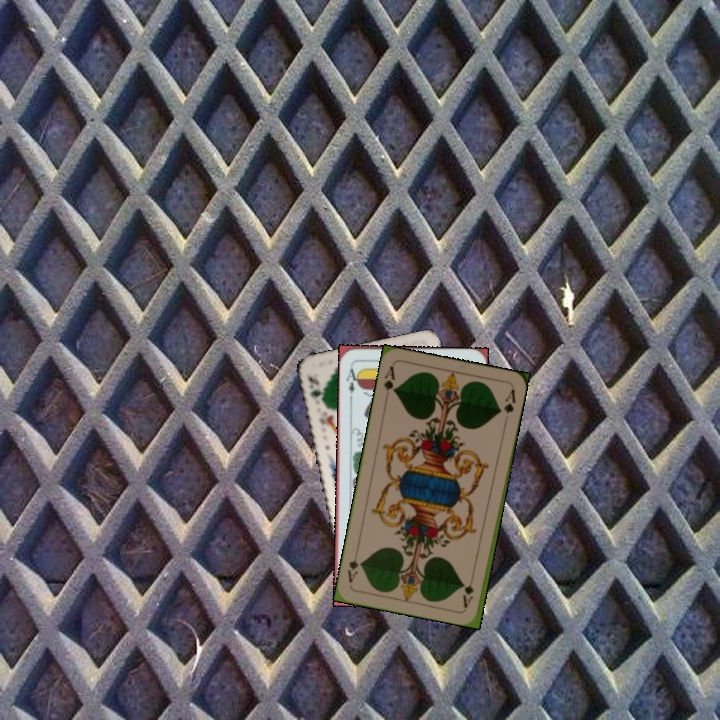EA: (342, 360, 362, 401)
GA: (380, 362, 399, 395), (459, 580, 476, 610)
GK: (304, 372, 326, 408)
